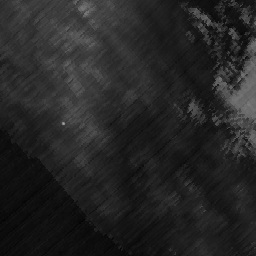Target: (59, 120, 66, 128)
